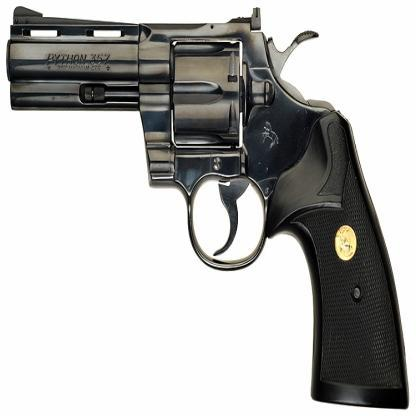gun: (5, 3, 414, 408)
